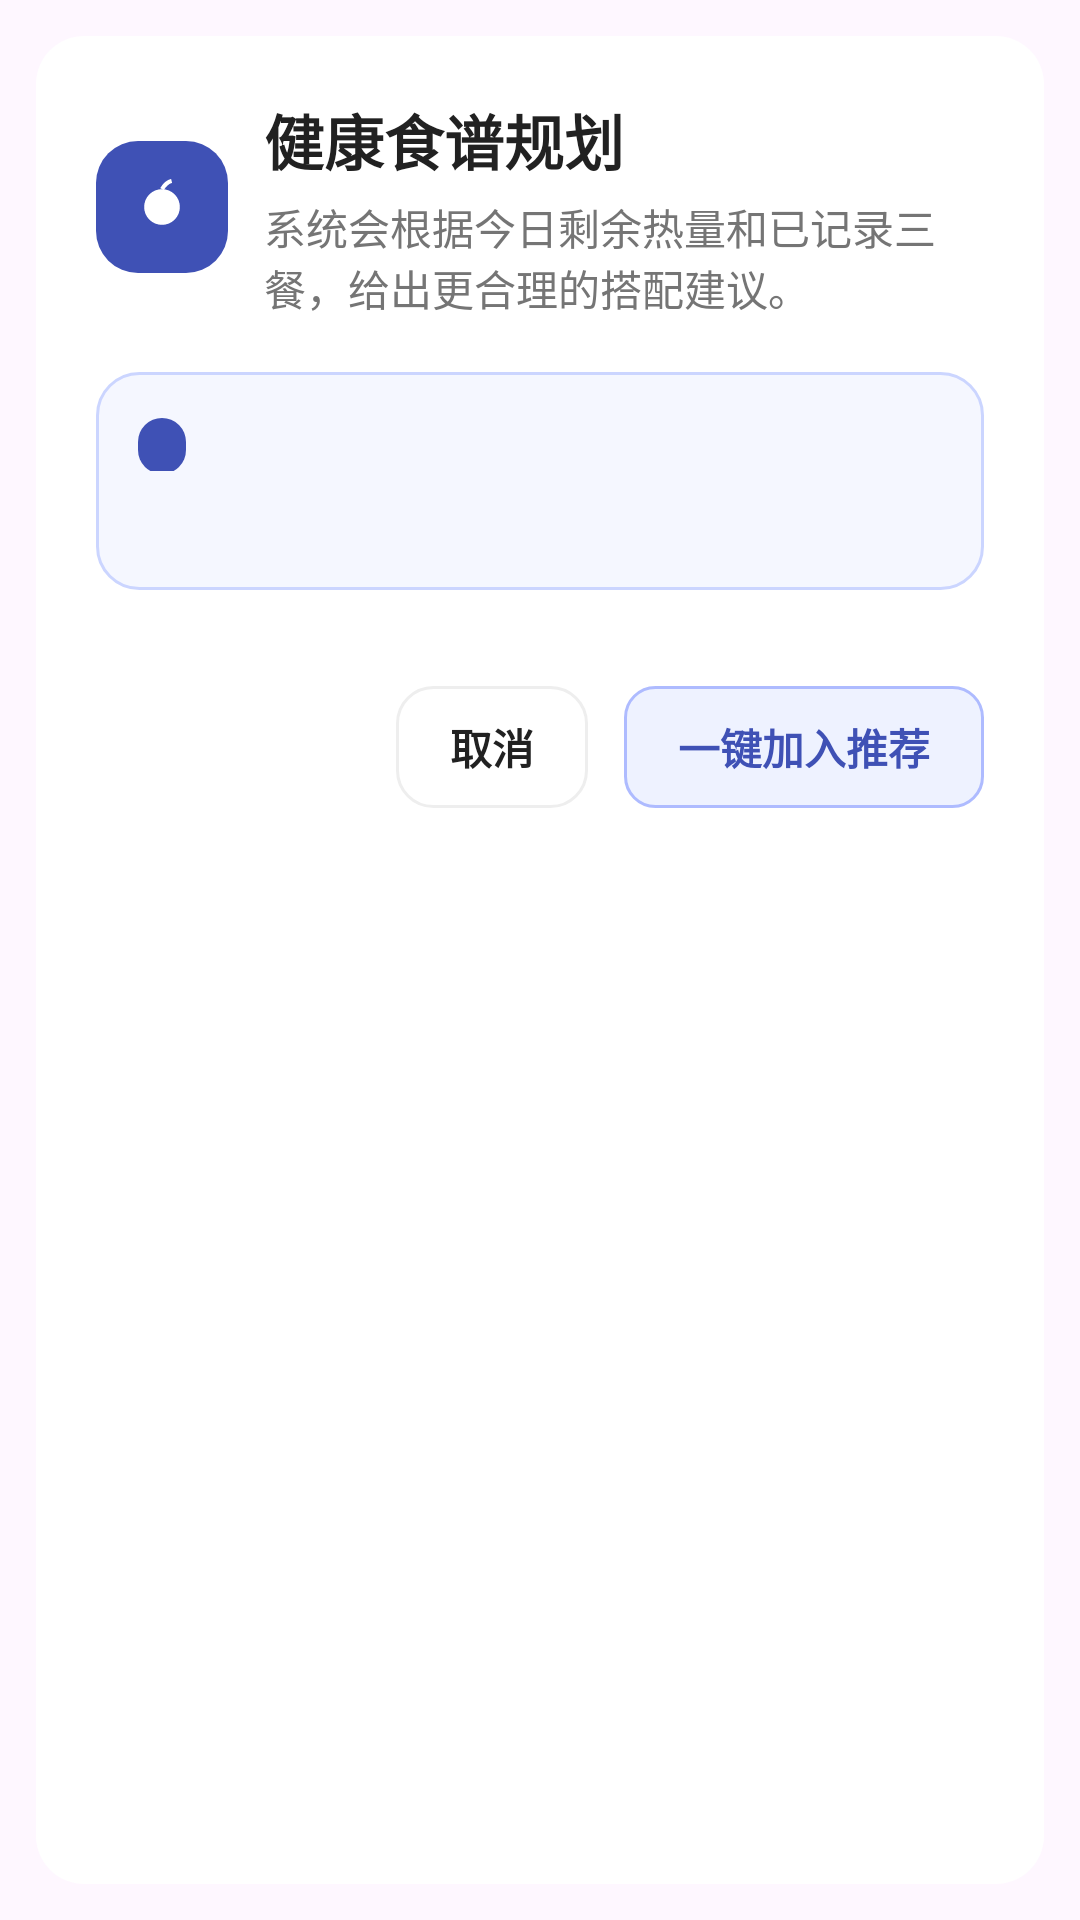

Locate icon controls on the screen. Image size 1080x1920, boxes as Rect(x1, y1, x2, y2).
diet: Rect(144, 179, 180, 225)
